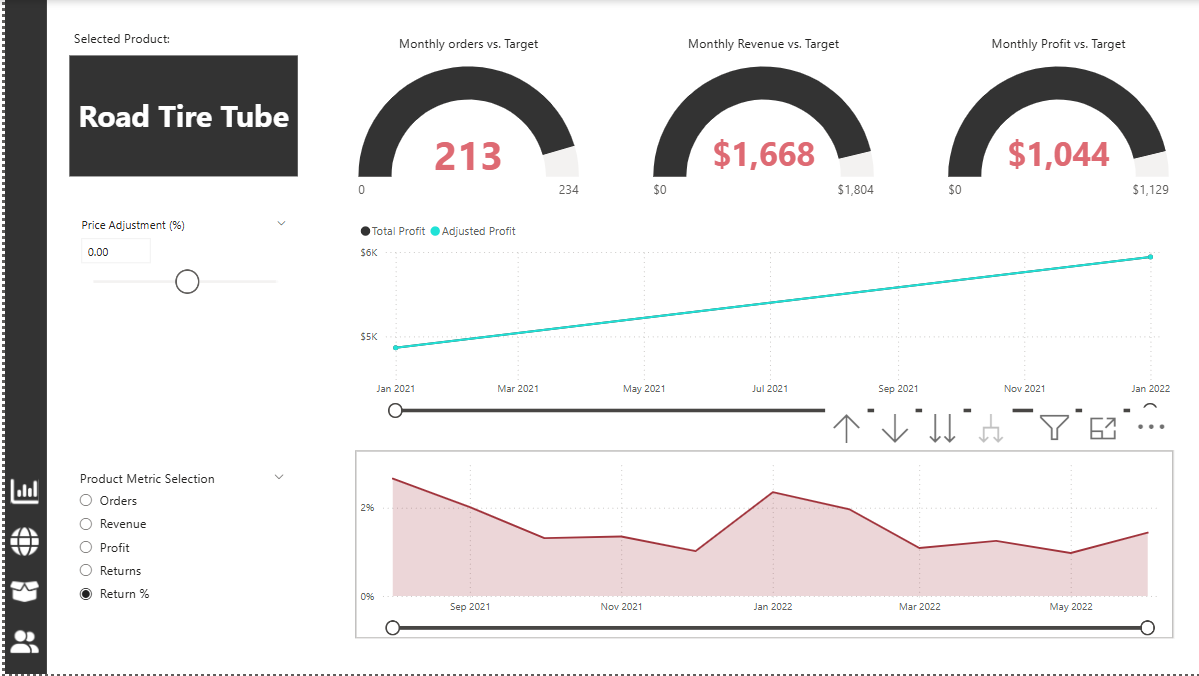

The dashboard page shown, as its layout file describes it:
{"tool":"powerbi","page":{"name":"Product Detail","canvas":[1280,720],"ordinal":2},"visuals":[{"type":"shape","box":[0,0,45,720],"z":0},{"type":"actionButton","box":[2.8,506.5,45,38.2],"z":0,"group":"g1"},{"type":"gauge","title":"Monthly orders vs. Target","fields":{"MaxValue":["Measure Table.Order Target"],"Y":["Measure Table.Total Orders"]},"box":[373,37.1,245.7,197.1],"z":1000},{"type":"actionButton","box":[2.8,559.7,45,38.2],"z":1000,"group":"g1"},{"type":"gauge","title":"Monthly Revenue vs. Target","fields":{"MaxValue":["Measure Table.Revenue Target"],"Y":["Measure Table.Total Revenue"]},"box":[687.9,37.1,245.7,197.1],"z":2000},{"type":"actionButton","box":[2.8,612.8,45,38.2],"z":2000,"group":"g1"},{"type":"gauge","title":"Monthly Profit vs. Target","fields":{"MaxValue":["Measure Table.Profit Target"],"Y":["Measure Table.Total Profit"]},"box":[1002.9,37.1,245.7,197.1],"z":3000},{"type":"actionButton","box":[2.8,666,45,38.2],"z":3000,"group":"g1"},{"type":"lineChart","title":"Profit Trending","fields":{"Category":["Calendar Lookup.Date Hierarchy.Start of Year","Calendar Lookup.Date Hierarchy.Start of Month","Calendar Lookup.Date Hierarchy.Start of Week","Calendar Lookup.Date Hierarchy.Date"],"Y":["Measure Table.Total Profit","Measure Table.Adjusted Profit"]},"box":[373.4,227.6,875,222.2],"z":4000},{"type":"areaChart","fields":{"Category":["Calendar Lookup.Date Hierarchy.Start of Year","Calendar Lookup.Date Hierarchy.Start of Month","Calendar Lookup.Date Hierarchy.Start of Week","Calendar Lookup.Date Hierarchy.Date"],"Y":["Measure Table.Return Rate"]},"box":[373.4,481.1,875,200.3],"z":5000},{"type":"card","fields":{"Values":["Min(Product Lookup.ProductName)"]},"box":[68,58.7,244,129.3],"z":6000},{"type":"textbox","box":[68,26.7,136,32],"z":7000},{"type":"group","id":"g1","title":"Navigation Buttons","box":[2.8,506.5,45,197.6],"z":8000},{"type":"slicer","fields":{"Values":["Price Adjustment (%).Price Adjustment (%)"]},"box":[68.1,227.6,244,132.2],"z":8001},{"type":"slicer","fields":{"Values":["Product Metric Selection.Product Metric Selection"]},"box":[67.2,496.9,244,165.1],"z":8002}]}

Visuals, with their boxes on the page's 1280x720 design canvas (x1, y1, x2, y2). These are canvas units, not pixel positions in the 1199x676 screenshot, which may show the page scaled, cropped or inside an application window:
shape: [0,0,45,720]
actionButton: [3,506,48,545]
"Monthly orders vs. Target" gauge: [373,37,619,234]
actionButton: [3,560,48,598]
"Monthly Revenue vs. Target" gauge: [688,37,934,234]
actionButton: [3,613,48,651]
"Monthly Profit vs. Target" gauge: [1003,37,1249,234]
actionButton: [3,666,48,704]
"Profit Trending" lineChart: [373,228,1248,450]
areaChart - Calendar Lookup.Date Hierarchy.Start of Year x Calendar Lookup.Date Hierarchy.Start of Month: [373,481,1248,681]
card - Min(Product Lookup.ProductName): [68,59,312,188]
textbox: [68,27,204,59]
"Navigation Buttons" group: [3,506,48,704]
slicer - Price Adjustment (%).Price Adjustment (%): [68,228,312,360]
slicer - Product Metric Selection.Product Metric Selection: [67,497,311,662]
